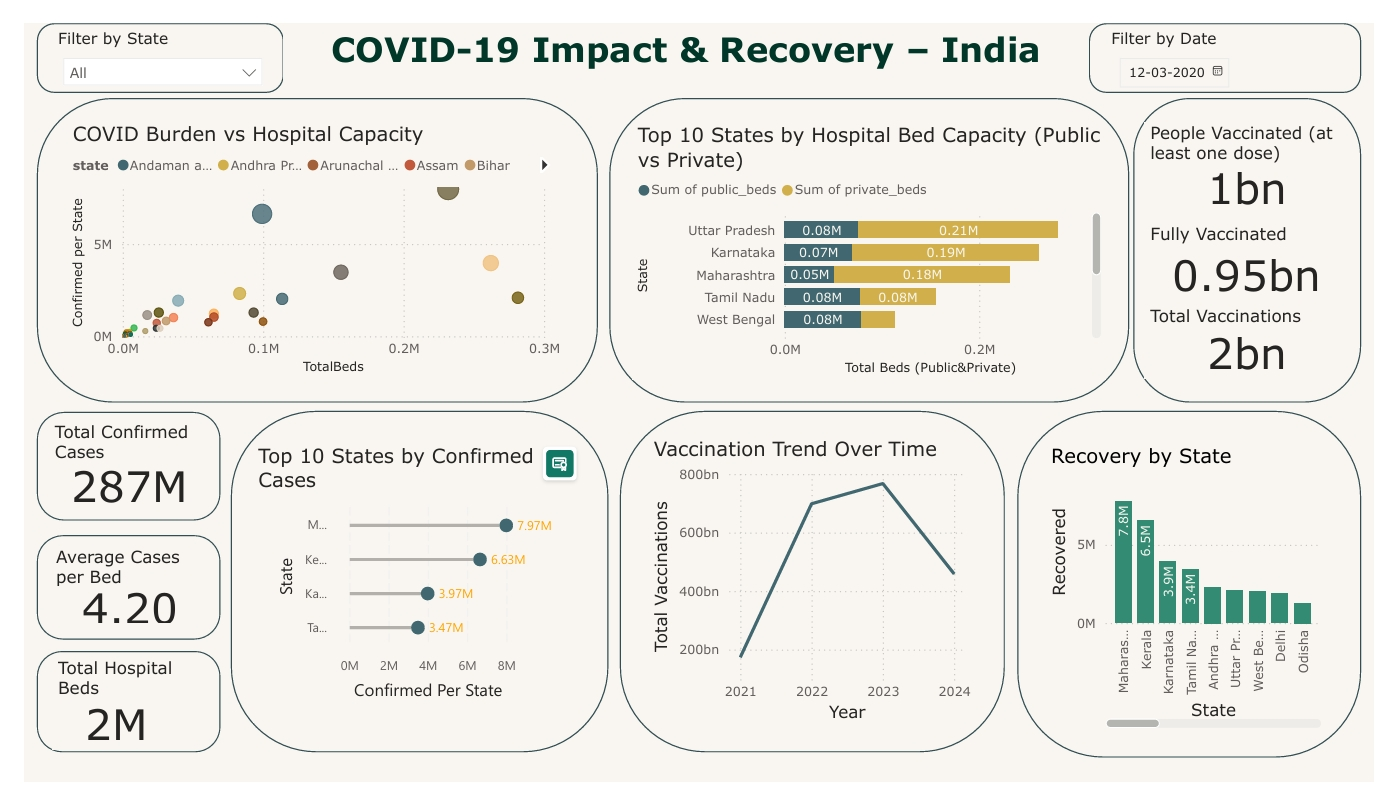

The dashboard page shown, as its layout file describes it:
{"tool":"powerbi","page":{"name":"Page 1","canvas":[1280,720],"ordinal":0},"visuals":[{"type":"shape","box":[941.9,368.4,326.4,328.8],"z":0},{"type":"shape","box":[1052.3,70.8,216,289.2],"z":1000},{"type":"shape","box":[565.1,368.4,364.8,324],"z":2000},{"type":"shape","box":[12,0,234,66],"z":3000},{"type":"shape","box":[12.4,596.2,173.6,95.8],"z":4000},{"type":"shape","box":[1010.3,0,258,66],"z":5000},{"type":"shape","box":[12.4,485.8,173.6,99.2],"z":6000},{"type":"shape","box":[12.4,368.6,173.6,103.7],"z":7000},{"type":"shape","box":[195.6,368.4,358.8,324],"z":8000},{"type":"shape","box":[554.7,70.9,493,289.5],"z":9000},{"type":"shape","box":[12,70.8,531.5,289.2],"z":10000},{"type":"lollipopBarChart29115F0ADEDB437DBCDF8E8A3E66E088","title":"Top 10 States by Confirmed Cases","fields":{"axis":["covid_data.state"],"values":["covid_data.LatestConfirmedPerState"]},"box":[217.2,398.4,310.8,265.2],"z":11000},{"type":"barChart","title":"Top 10 States by Hospital Bed Capacity (Public vs Private)","fields":{"Category":["hospital_beds_final.state"],"Y":["Sum(hospital_beds_final.public_beds)","Sum(hospital_beds_final.private_beds)"]},"box":[576.7,94.2,448.8,244.2],"z":12000},{"type":"scatterChart","title":"COVID Burden vs Hospital Capacity","fields":{"X":["hospital_beds_final.TotalBeds"],"Series":["covid_data.state"],"Y":["covid_data.LatestConfirmedPerState"],"Size":["hospital_beds_final.AvgCasesPerBed"]},"box":[41.2,93.3,472,244.3],"z":13000},{"type":"slicer","title":"Filter by State","fields":{"Values":["covid_data.state"]},"box":[27.1,4.5,208.5,56.4],"z":14000},{"type":"card","title":"Total Confirmed Cases","fields":{"Values":["covid_data.LatestTotalConfirmed"]},"box":[23.7,377.6,151,84.5],"z":15000},{"type":"card","title":"Total Hospital Beds","fields":{"Values":["Sum(hospital_beds_final.total_beds)"]},"box":[27.1,601.9,120.6,87.9],"z":16000},{"type":"card","title":"Average Cases per Bed","fields":{"Values":["hospital_beds_final.AvgCasesPerBed"]},"box":[24.8,495.9,149.9,77.8],"z":17000},{"type":"slicer","title":"Filter by Date","fields":{"Values":["covid_data.date"]},"box":[1025.9,4.8,216,56.4],"z":18000},{"type":"textbox","box":[246,0,764.3,61.2],"z":19000},{"type":"lineChart","title":"Vaccination Trend Over Time","fields":{"Category":["India_vaccination.date.Variation.Date Hierarchy.Year","India_vaccination.date.Variation.Date Hierarchy.Quarter","India_vaccination.date.Variation.Date Hierarchy.Month","India_vaccination.date.Variation.Date Hierarchy.Day"],"Y":["Sum(India_vaccination.total_vaccinations)"]},"box":[591.5,392.4,312,276],"z":20000},{"type":"card","title":"Total Vaccinations","fields":{"Values":["Max(India_vaccination.total_vaccinations)"]},"box":[1063.1,267.6,193.2,70.8],"z":21000},{"type":"card","title":"People Vaccinated (at least one dose)","fields":{"Values":["Max(India_vaccination.people_vaccinated)"]},"box":[1063,94,193,86],"z":22000},{"type":"card","title":"Fully Vaccinated","fields":{"Values":["Max(India_vaccination.people_fully_vaccinated)"]},"box":[1063.1,189.6,193.2,78],"z":23000},{"type":"columnChart","title":"Recovery by State","fields":{"Category":["covid_data.state"],"Y":["covid_data.LatestRecoveredPerState"]},"box":[969.5,398.4,265.2,276],"z":24000}]}

Visuals, with their boxes in screenshot pixels (x1, y1, x2, y2), scaled from the page's 1280x720 canvas onto the 1398x805 screenshot:
shape: x1=1029, y1=412, x2=1385, y2=780
shape: x1=1149, y1=79, x2=1385, y2=402
shape: x1=617, y1=412, x2=1016, y2=774
shape: x1=13, y1=0, x2=269, y2=74
shape: x1=14, y1=667, x2=203, y2=774
shape: x1=1103, y1=0, x2=1385, y2=74
shape: x1=14, y1=543, x2=203, y2=654
shape: x1=14, y1=412, x2=203, y2=528
shape: x1=214, y1=412, x2=606, y2=774
shape: x1=606, y1=79, x2=1144, y2=403
shape: x1=13, y1=79, x2=594, y2=402
"Top 10 States by Confirmed Cases" lollipopBarChart29115F0ADEDB437DBCDF8E8A3E66E088: x1=237, y1=445, x2=577, y2=742
"Top 10 States by Hospital Bed Capacity (Public vs Private)" barChart: x1=630, y1=105, x2=1120, y2=378
"COVID Burden vs Hospital Capacity" scatterChart: x1=45, y1=104, x2=561, y2=377
"Filter by State" slicer: x1=30, y1=5, x2=257, y2=68
"Total Confirmed Cases" card: x1=26, y1=422, x2=191, y2=517
"Total Hospital Beds" card: x1=30, y1=673, x2=161, y2=771
"Average Cases per Bed" card: x1=27, y1=554, x2=191, y2=641
"Filter by Date" slicer: x1=1120, y1=5, x2=1356, y2=68
textbox: x1=269, y1=0, x2=1103, y2=68
"Vaccination Trend Over Time" lineChart: x1=646, y1=439, x2=987, y2=747
"Total Vaccinations" card: x1=1161, y1=299, x2=1372, y2=378
"People Vaccinated (at least one dose)" card: x1=1161, y1=105, x2=1372, y2=201
"Fully Vaccinated" card: x1=1161, y1=212, x2=1372, y2=299
"Recovery by State" columnChart: x1=1059, y1=445, x2=1349, y2=754
